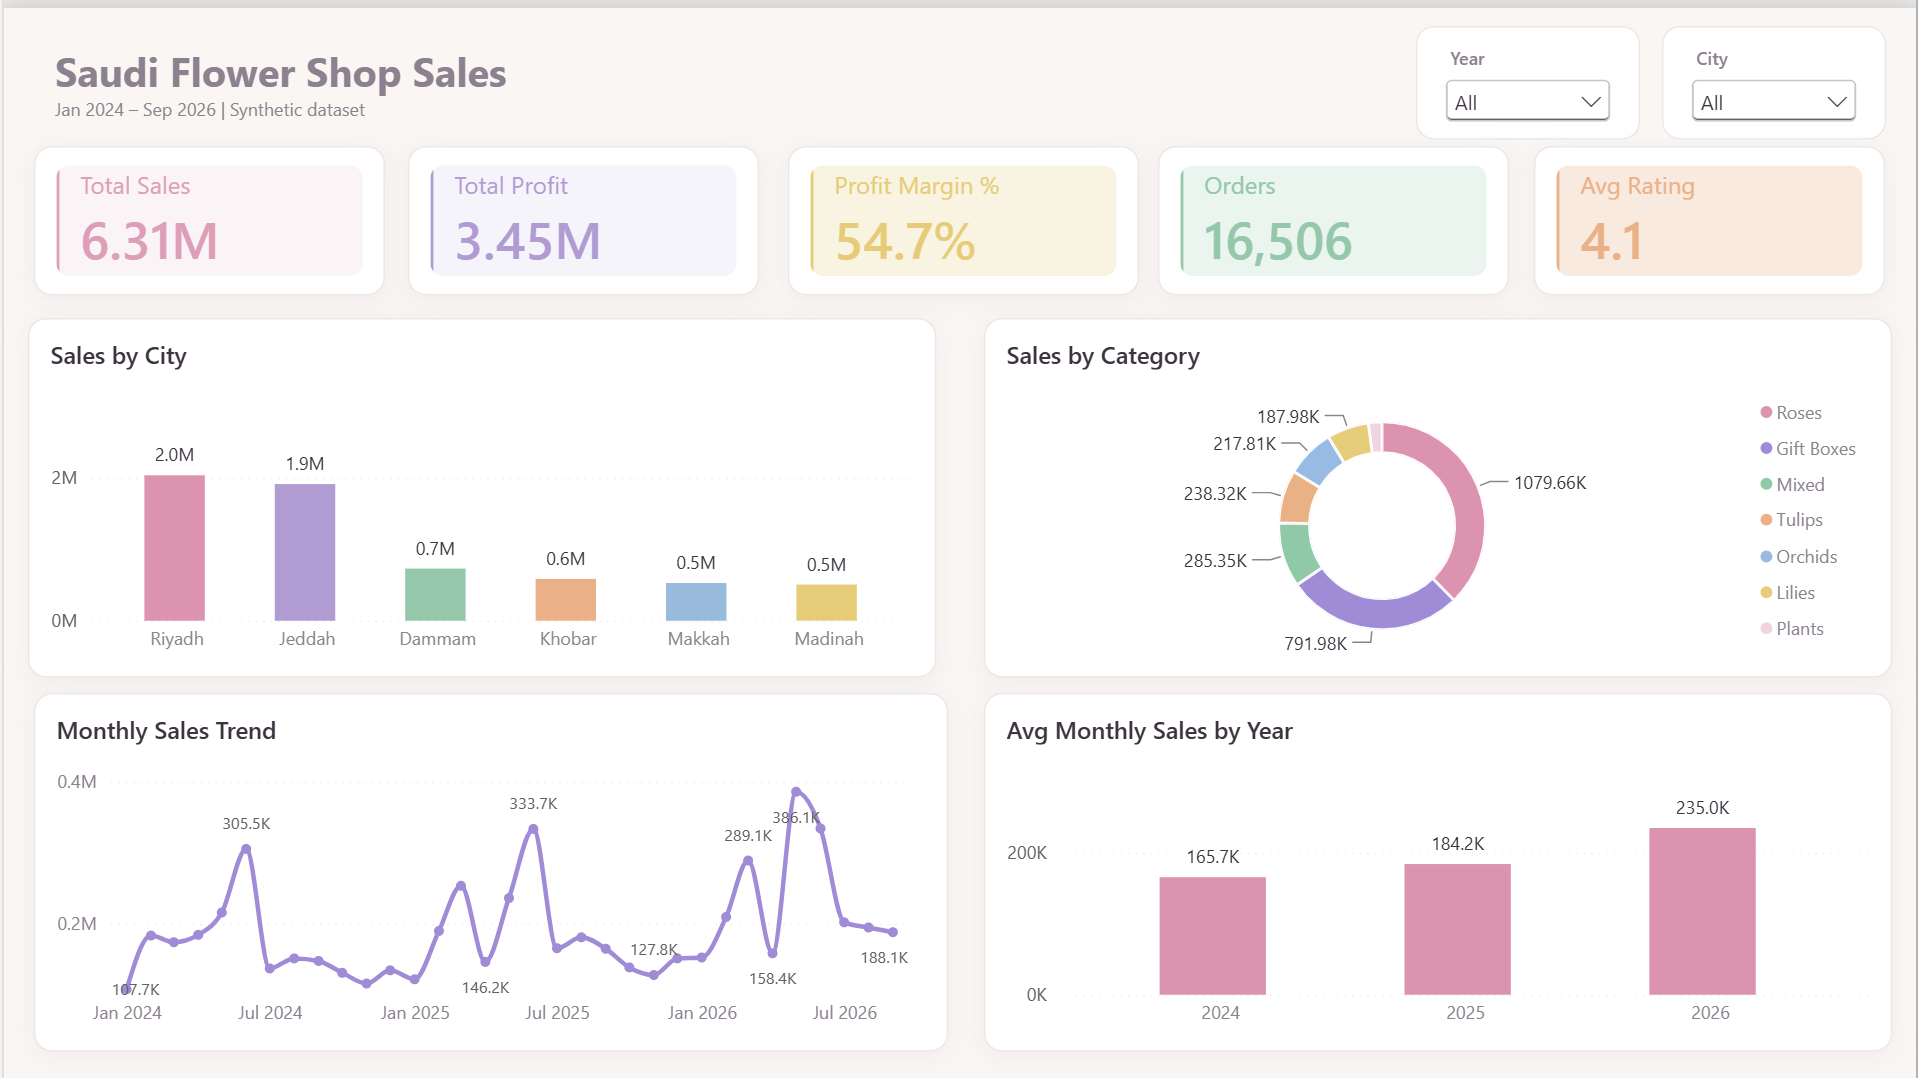

The dashboard page shown, as its layout file describes it:
{"tool":"powerbi","page":{"name":"Overview","canvas":[1280,720],"ordinal":0},"visuals":[{"type":"textbox","box":[20,12,600,76],"z":0},{"type":"lineChart","title":"Monthly Sales Trend","fields":{"Category":["Date.Month Start.Variation.Date Hierarchy.Year","Date.Month Start.Variation.Date Hierarchy.Quarter","Date.Month Start.Variation.Date Hierarchy.Month","Date.Month Start.Variation.Date Hierarchy.Day"],"Y":["saudi_flower_shop_sales.Total Sales"]},"box":[20,458,612,240],"z":1000},{"type":"donutChart","title":"Sales by Category","fields":{"Category":["saudi_flower_shop_sales.product_category"],"Y":["Sum(saudi_flower_shop_sales.cost_sar)"]},"box":[656,208,608,240],"z":2000},{"type":"slicer","fields":{"Values":["Date.Year"]},"box":[945,12,150,76],"z":3000},{"type":"slicer","fields":{"Values":["saudi_flower_shop_sales.city"]},"box":[1110,12,150,76],"z":4000},{"type":"clusteredColumnChart","title":"Sales by City","fields":{"Category":["saudi_flower_shop_sales.city"],"Y":["saudi_flower_shop_sales.Total Sales"]},"box":[16,208,608,240],"z":5000},{"type":"clusteredColumnChart","title":"Avg Monthly Sales by Year","fields":{"Category":["Date.Year"],"Y":["saudi_flower_shop_sales.Avg Monthly Sales"]},"box":[656,458,608,240],"z":6000},{"type":"cardVisual","fields":{"Data":["saudi_flower_shop_sales.Total Sales"]},"box":[20,92,235,100],"z":7000},{"type":"cardVisual","fields":{"Data":["saudi_flower_shop_sales.Total Profit"]},"box":[271,92,235,100],"z":8000},{"type":"cardVisual","fields":{"Data":["saudi_flower_shop_sales.Profit Margin %"]},"box":[525,92,235,100],"z":9000},{"type":"cardVisual","fields":{"Data":["Date.Orders Display"]},"box":[773,92,235,100],"z":10000},{"type":"cardVisual","fields":{"Data":["saudi_flower_shop_sales.Avg Rating"]},"box":[1024,92,235,100],"z":11000}]}

Visuals, with their boxes in screenshot pixels (x1, y1, x2, y2), scaled from the page's 1280x720 canvas onto the 1922x1078 screenshot:
textbox: [left=30, top=18, right=931, bottom=132]
"Monthly Sales Trend" lineChart: [left=30, top=686, right=949, bottom=1045]
"Sales by Category" donutChart: [left=985, top=311, right=1898, bottom=671]
slicer - Date.Year: [left=1419, top=18, right=1644, bottom=132]
slicer - saudi_flower_shop_sales.city: [left=1667, top=18, right=1892, bottom=132]
"Sales by City" clusteredColumnChart: [left=24, top=311, right=937, bottom=671]
"Avg Monthly Sales by Year" clusteredColumnChart: [left=985, top=686, right=1898, bottom=1045]
cardVisual - saudi_flower_shop_sales.Total Sales: [left=30, top=138, right=383, bottom=287]
cardVisual - saudi_flower_shop_sales.Total Profit: [left=407, top=138, right=760, bottom=287]
cardVisual - saudi_flower_shop_sales.Profit Margin %: [left=788, top=138, right=1141, bottom=287]
cardVisual - Date.Orders Display: [left=1161, top=138, right=1514, bottom=287]
cardVisual - saudi_flower_shop_sales.Avg Rating: [left=1538, top=138, right=1890, bottom=287]
